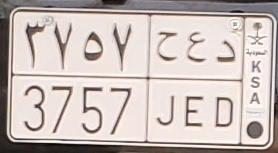3: (24, 22, 46, 132)
5: (81, 31, 105, 135)
7: (49, 21, 76, 136), (109, 22, 135, 135)
D: (214, 38, 237, 128)
E: (183, 31, 207, 130)
J: (154, 30, 178, 128)
